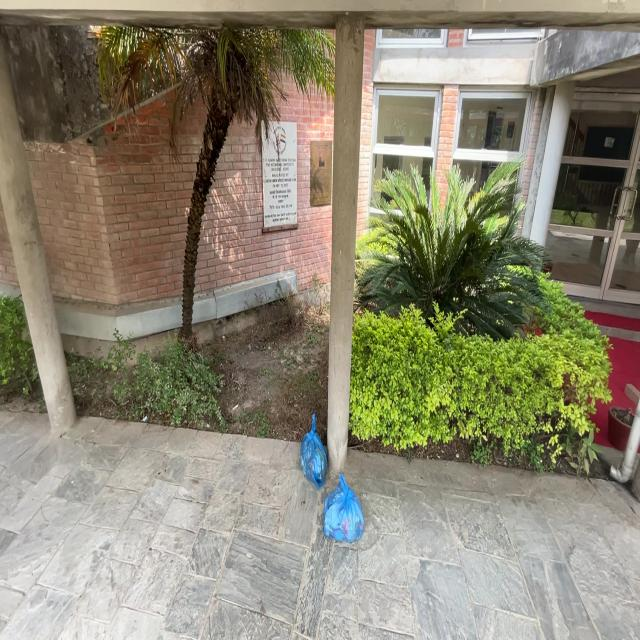garbage: (323, 482, 377, 562), (291, 419, 337, 492)
